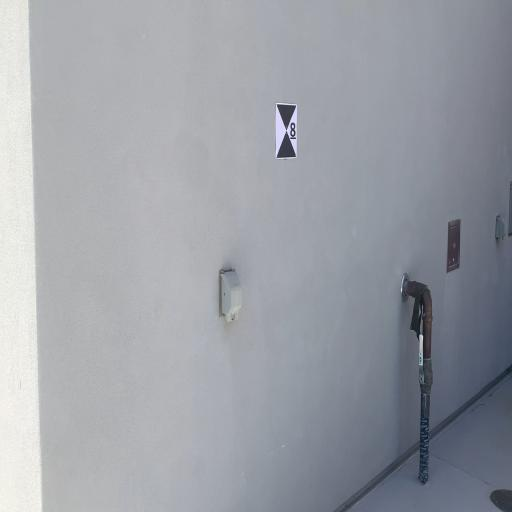target8: (275, 102, 298, 157)
